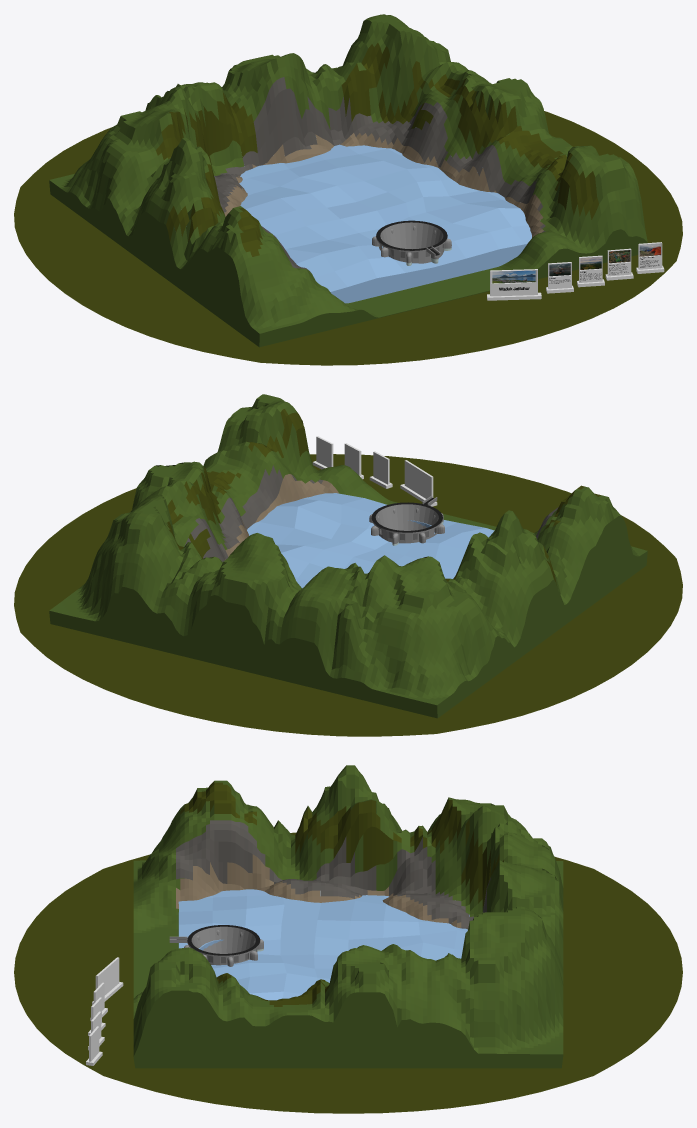
The model's file is wadukJatiluhur.glb.
The picture shows the model from 3 angles, top to bottom: view 1: azimuth 30°, elevation 25°; view 2: azimuth 150°, elevation 25°; view 3: azimuth 270°, elevation 25°; orthographic projection. The views are drawn at different scales.
Parts seen in each view (by area): view 1: Plane, Plane.001, Cube.001, Circle, Plane.006, Plane.005, Plane.004, Plane.002, Plane.003; view 2: Plane, Plane.001, Cube.001, Circle, Plane.006, Plane.003, Plane.004; view 3: Plane, Plane.001, Cube.001, Circle, Plane.006.
Boxes of the visible parts, x1=… form: Plane: x1=49, y1=14, x2=647, y2=347; Plane.001: x1=14, y1=111, x2=682, y2=365; Cube.001: x1=239, y1=144, x2=531, y2=303; Circle: x1=376, y1=220, x2=447, y2=263; Plane.006: x1=487, y1=269, x2=541, y2=300; Plane.005: x1=636, y1=242, x2=664, y2=273; Plane.004: x1=605, y1=248, x2=633, y2=280; Plane.002: x1=577, y1=255, x2=604, y2=287; Plane.003: x1=546, y1=262, x2=573, y2=293; Plane: x1=49, y1=394, x2=647, y2=718; Plane.001: x1=14, y1=454, x2=682, y2=736; Cube.001: x1=247, y1=493, x2=494, y2=588; Circle: x1=371, y1=495, x2=442, y2=543; Plane.006: x1=400, y1=460, x2=437, y2=506; Plane.003: x1=369, y1=451, x2=392, y2=488; Plane.004: x1=312, y1=436, x2=333, y2=469; Plane: x1=133, y1=765, x2=563, y2=1068; Plane.001: x1=14, y1=832, x2=682, y2=1113; Cube.001: x1=178, y1=889, x2=469, y2=1000; Circle: x1=169, y1=925, x2=260, y2=965; Plane.006: x1=92, y1=957, x2=123, y2=1005.
Bounding box in the file's own units: 25.28 × 5.25 × 25.28.
Materials: 14 (5 with a texture image).
